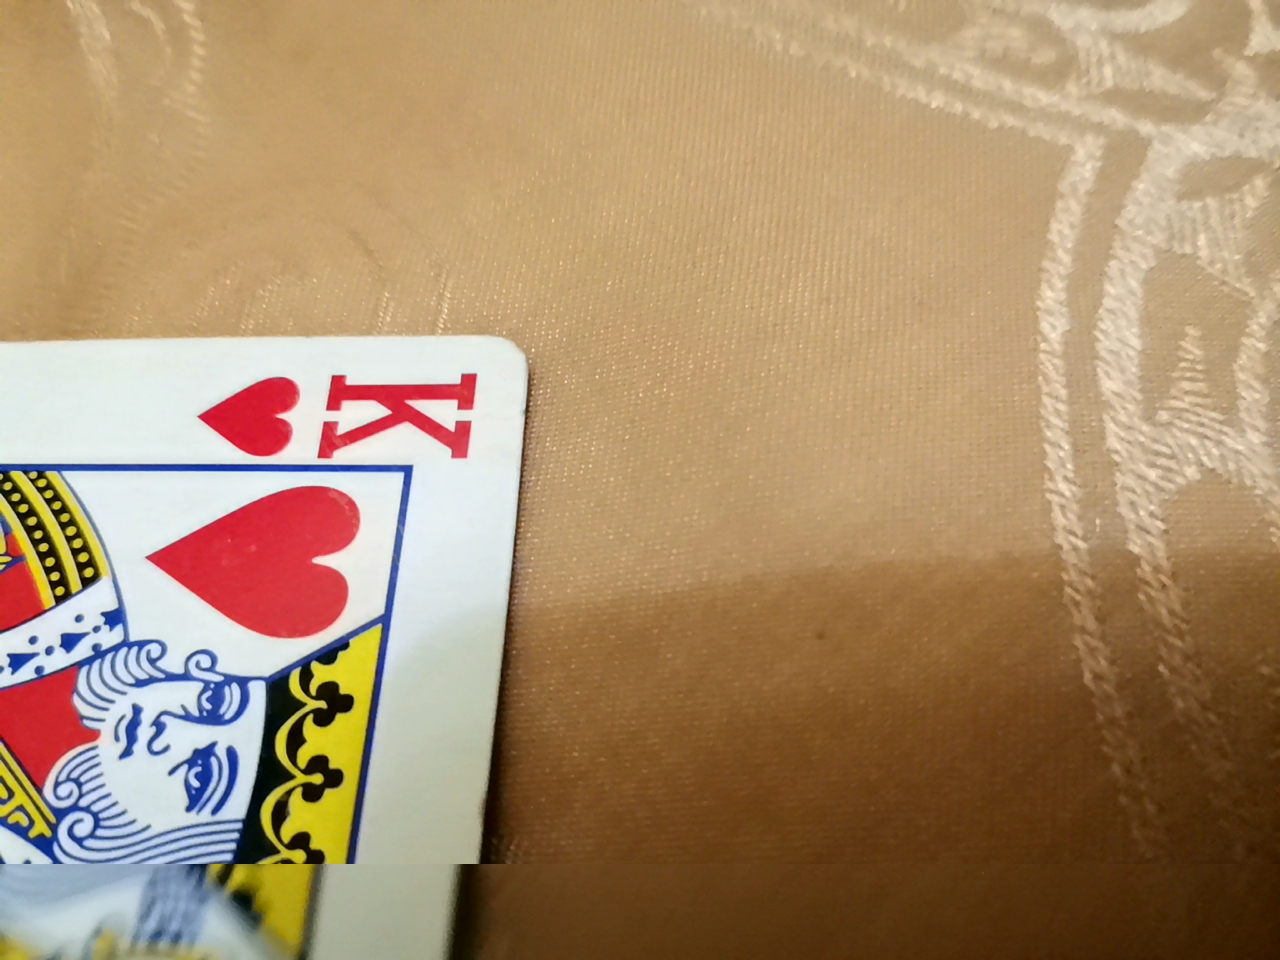hx k: (12, 323, 536, 958)
